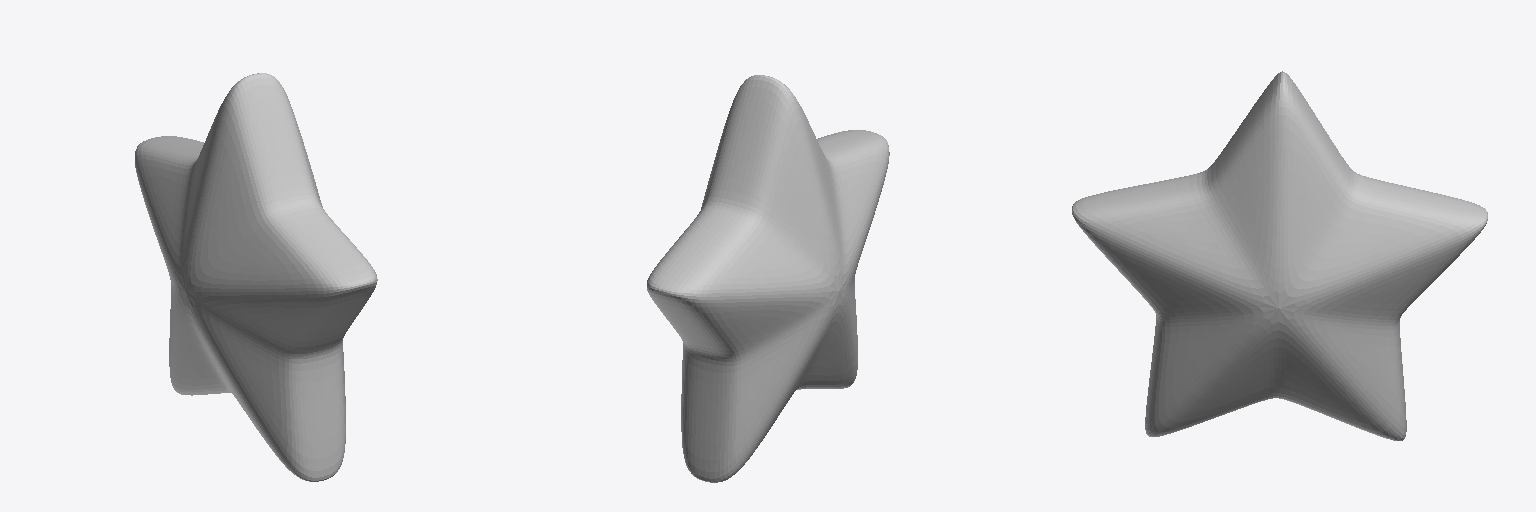
File: star.obj
3 renders of one model, left to right at view 1: azimuth 30°, elevation 25°; view 2: azimuth 150°, elevation 25°; view 3: azimuth 270°, elevation 25°, orthographic.
Parts seen in each view (by area): view 1: Star.001; view 2: Star.001; view 3: Star.001.
Part boxes in pixels (x1,y1,x2,y2): Star.001: (135,73,377,481); Star.001: (647,75,889,482); Star.001: (1072,71,1487,440).
Size of the model in its own units: 0.1802 by 0.4373 by 0.4566.